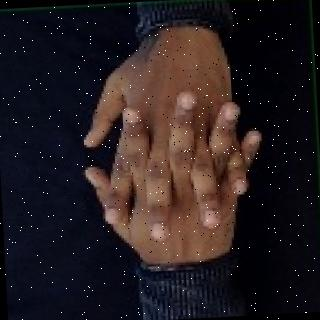W: (68, 49, 280, 266)
